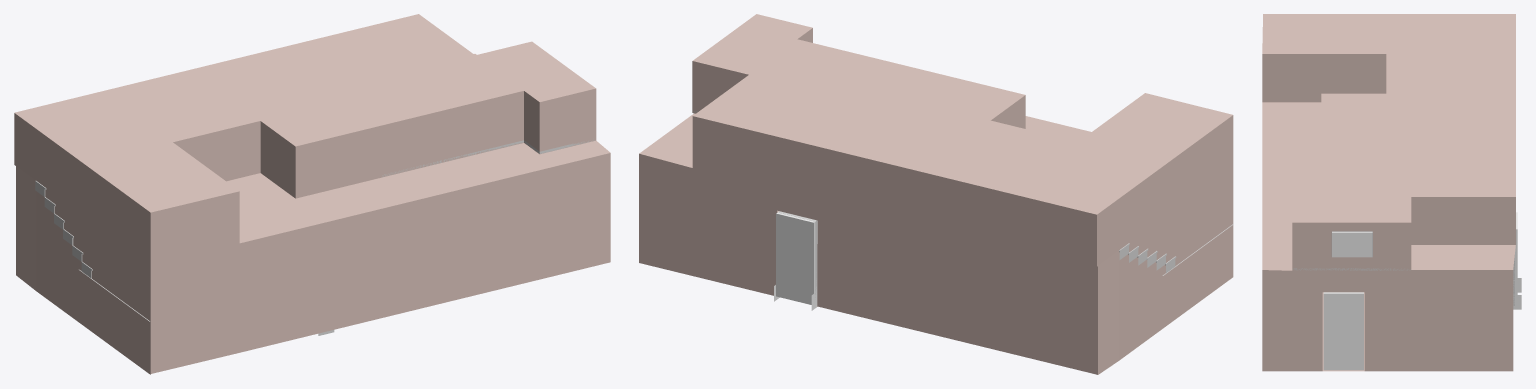
File: houseLoc.fbx
The picture shows the model from 3 angles, left to right: view 1: azimuth 30°, elevation 25°; view 2: azimuth 150°, elevation 25°; view 3: azimuth 270°, elevation 25°; orthographic projection. The views are drawn at different scales.
Parts seen in each view (by area): view 1: Room, Baseboard; view 2: Room, CTRL_Hole.001; view 3: Room, CTRL_Hole.002, CTRL_Hole, CTRL_Hole.001, Baseboard.
Boxes of the visible parts, box(x1,y1,x2,y2) form: Room: box(14, 14, 610, 374); Baseboard: box(382, 140, 594, 177); Room: box(639, 14, 1233, 374); CTRL_Hole.001: box(776, 212, 817, 305); Room: box(1262, 14, 1515, 371); CTRL_Hole.002: box(1323, 292, 1363, 370); CTRL_Hole: box(1332, 231, 1372, 257); CTRL_Hole.001: box(1513, 212, 1517, 306); Baseboard: box(1292, 268, 1410, 270).
Bounding box in the file's own units: 2243 × 760 × 1169.
